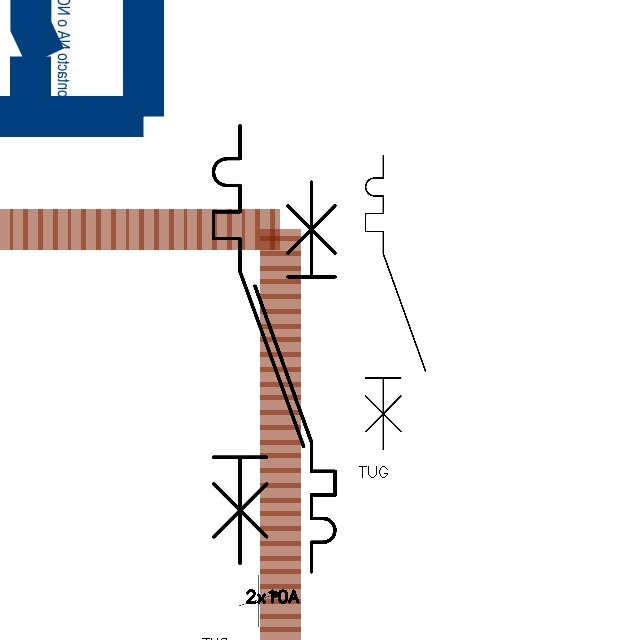interruptor_termomagnetico: (202, 114, 315, 575), (245, 172, 345, 582), (358, 148, 433, 456)
